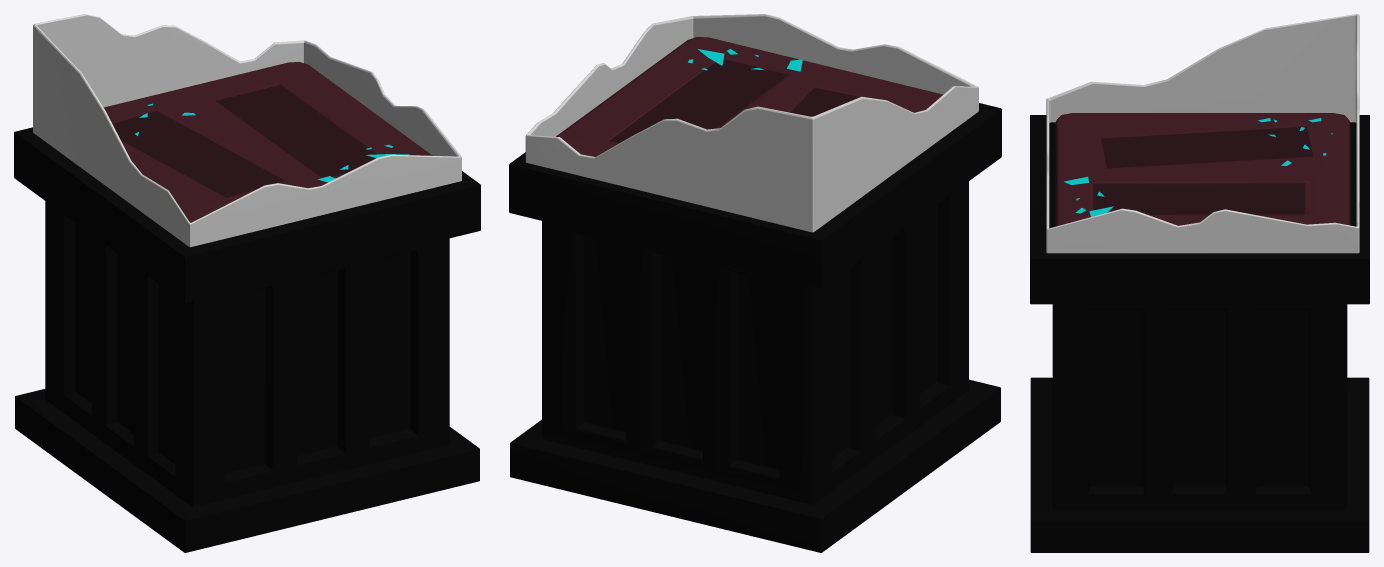
The model's file is GlassDisplay_model.fbx.
3 renders of one model, left to right at view 1: azimuth 30°, elevation 25°; view 2: azimuth 150°, elevation 25°; view 3: azimuth 270°, elevation 25°, orthographic. The views are drawn at different scales.
Visible parts, largest first — view 1: Stand, Glass; view 2: Stand, Glass; view 3: Stand, Glass.
Part boxes in pixels (box(x1,y1,x2,y2)): Stand: box(14, 62, 480, 552); Glass: box(33, 14, 461, 247); Stand: box(509, 37, 1001, 552); Glass: box(525, 14, 978, 232); Stand: box(1030, 113, 1369, 552); Glass: box(1046, 14, 1359, 253).
Bounding box in the file's own units: 111 × 144 × 110.
